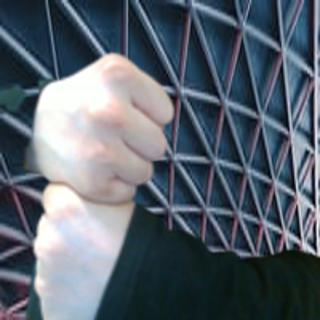CAREFUL: (17, 43, 180, 320)
